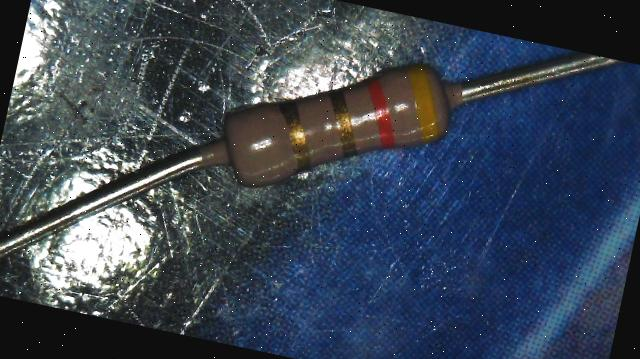gold: (268, 99, 322, 170), (317, 87, 367, 157)
orange: (356, 77, 406, 149)
resistor: (191, 42, 480, 204)
yellow: (396, 62, 452, 144)
